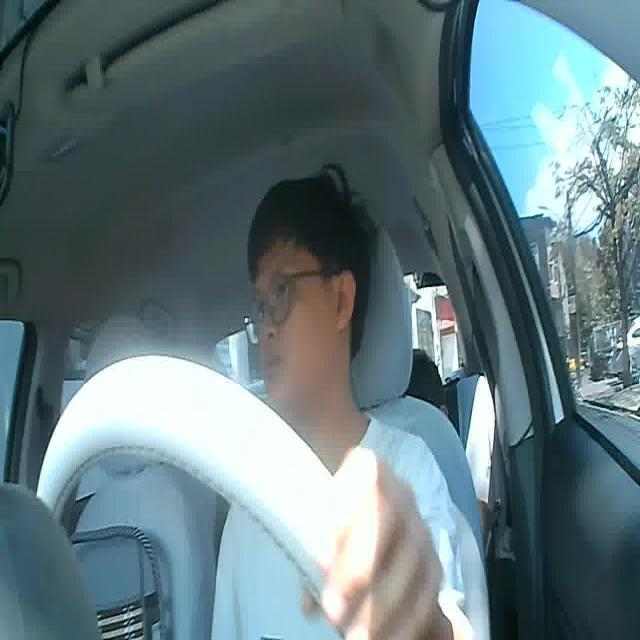Eye-Open: (271, 281, 295, 297)
Inattentive: (247, 170, 376, 406)
Normal: (262, 351, 282, 382)
